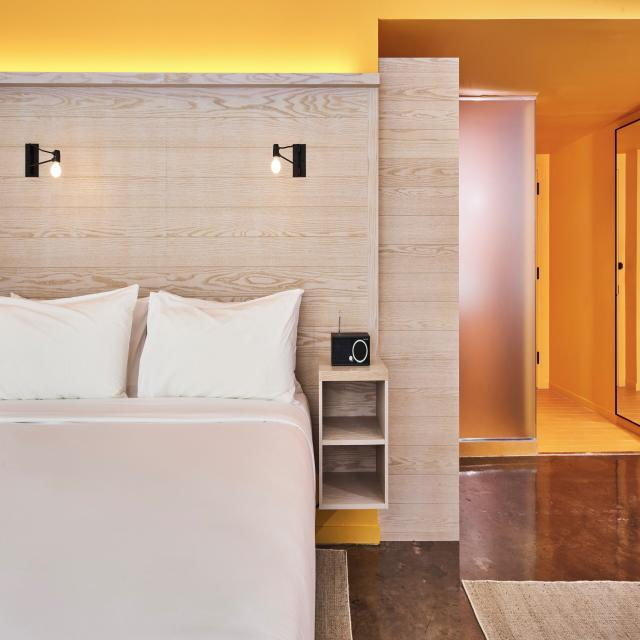bed: (0, 286, 317, 638)
